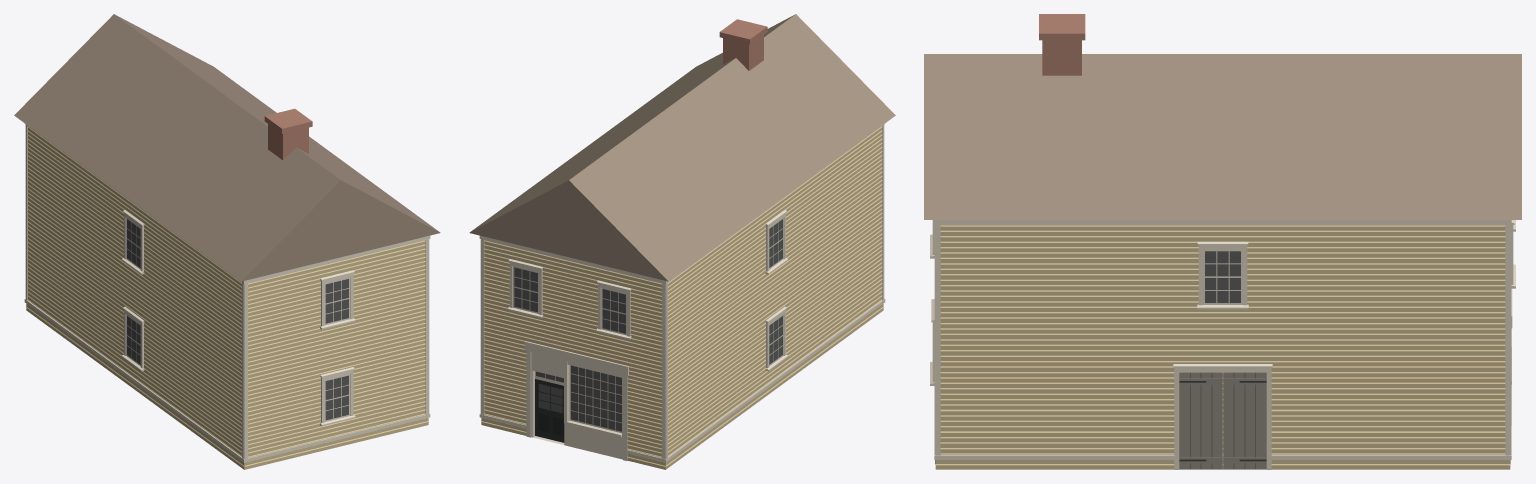
File: recon_1835_core_c3_014__inferred_1835.glb
3 renders of one model, left to right at view 1: azimuth 30°, elevation 25°; view 2: azimuth 150°, elevation 25°; view 3: azimuth 270°, elevation 25°, orthographic. The views are drawn at different scales.
Parts seen in each view (by area): view 1: recon_1835_core_c3_014__inferred_1835; view 2: recon_1835_core_c3_014__inferred_1835; view 3: recon_1835_core_c3_014__inferred_1835.
Part boxes in pixels (bbox=[...]): recon_1835_core_c3_014__inferred_1835: bbox=[14, 14, 440, 469]; recon_1835_core_c3_014__inferred_1835: bbox=[469, 14, 895, 469]; recon_1835_core_c3_014__inferred_1835: bbox=[924, 14, 1521, 469].
Size of the model in its own units: 6.44 by 9.04 by 12.68.
